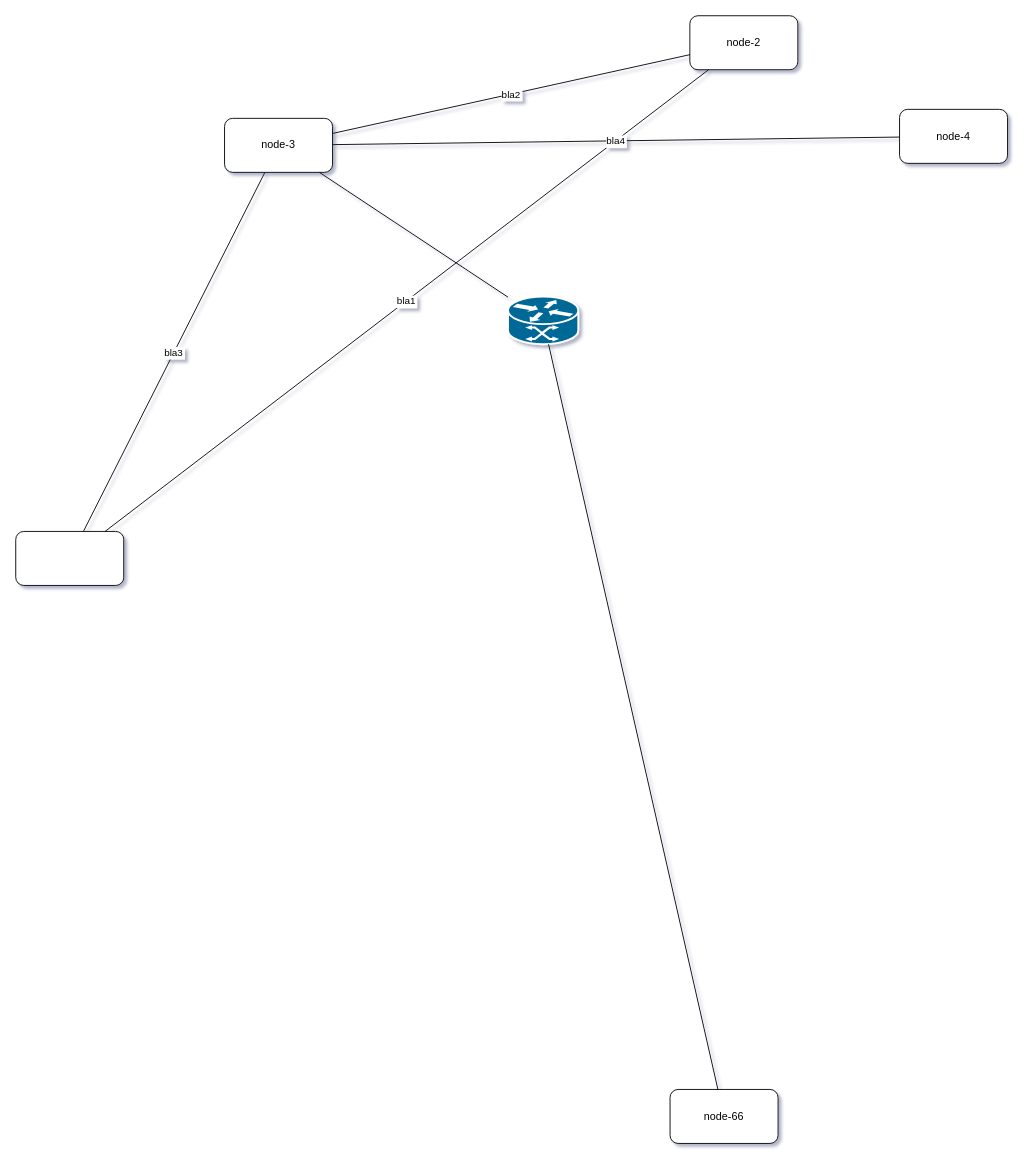
Some shapes in this 1029 by 1165 pixel diagram are drawn without their labels. The centre of each missing label's shape, as x and y in pixels:
"node-1" belongs at point (69, 558).
"node-55" belongs at point (543, 320).
